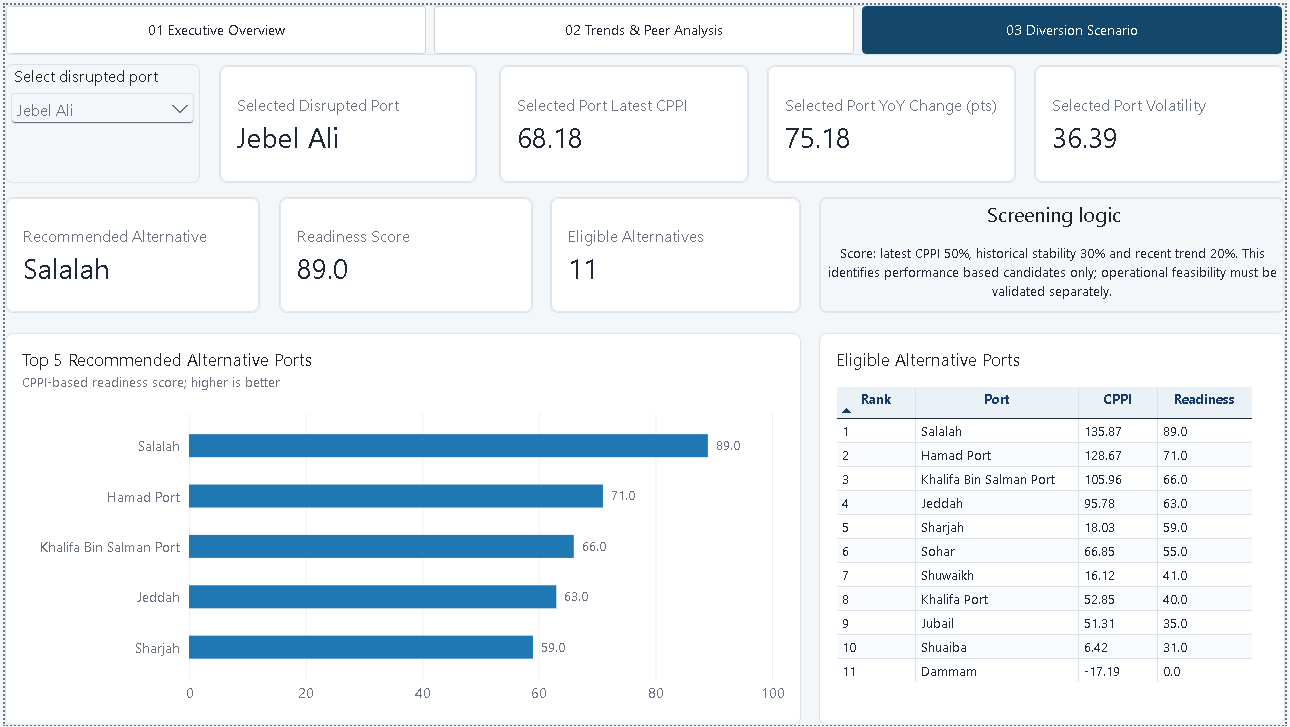

The dashboard page shown, as its layout file describes it:
{"tool":"powerbi","page":{"name":"03 Diversion Scenario","canvas":[1280,720],"ordinal":4},"visuals":[{"type":"slicer","title":"Select disrupted port.","fields":{"Values":["Disrupted Port Selector.Port"]},"box":[0,59.2,194.9,118.4],"z":0},{"type":"cardVisual","fields":{"Data":["Calculations.Selected Disrupted Port"]},"box":[214.3,60.2,258.2,117.3],"z":1000},{"type":"cardVisual","fields":{"Data":["Calculations.Selected Port Latest CPPI"]},"box":[493.9,60.2,250,117.3],"z":2000},{"type":"cardVisual","fields":{"Data":["Calculations.Selected Port YoY Change"]},"box":[762.2,60.2,249,117.3],"z":3000},{"type":"cardVisual","fields":{"Data":["Calculations.Selected Port Volatility"]},"box":[1028.6,60.2,251,117.3],"z":4000},{"type":"tableEx","title":"Eligible Alternative Ports","fields":{"Values":["Calculations.Alternative Rank","dim_Port.Port","Calculations.Latest CPPI","Calculations.CPPI Readiness Score"]},"box":[814.3,327.6,465.3,392.9],"z":5000},{"type":"cardVisual","fields":{"Data":["Calculations.Top CPPI-Screened Alternative"]},"box":[0,191.8,255.1,116.3],"z":6000},{"type":"cardVisual","fields":{"Data":["Calculations.Top Alternative Readiness Score"]},"box":[274.5,191.8,253.1,116.3],"z":7000},{"type":"cardVisual","fields":{"Data":["Calculations.Eligible Alternatives"]},"box":[544.9,191.8,251,116.3],"z":8000},{"type":"clusteredBarChart","title":"Top 5 Recommended Alternative Ports","fields":{"Category":["dim_Port.Port"],"Y":["Calculations.CPPI Readiness Score"]},"box":[0,327.6,795.9,392.9],"z":9000},{"type":"textbox","title":"Screening logic","box":[814.3,191.8,465.3,116.3],"z":10000},{"type":"pageNavigator","box":[0,0,1279.6,50],"z":11000}]}

Visuals, with their boxes in screenshot pixels (x1, y1, x2, y2), scaled from the page's 1280x720 canvas onto the 1290x727 screenshot:
"Select disrupted port." slicer: left=0, top=60, right=196, bottom=179
cardVisual - Calculations.Selected Disrupted Port: left=216, top=61, right=476, bottom=179
cardVisual - Calculations.Selected Port Latest CPPI: left=498, top=61, right=750, bottom=179
cardVisual - Calculations.Selected Port YoY Change: left=768, top=61, right=1019, bottom=179
cardVisual - Calculations.Selected Port Volatility: left=1037, top=61, right=1289, bottom=179
"Eligible Alternative Ports" tableEx: left=821, top=331, right=1289, bottom=726
cardVisual - Calculations.Top CPPI-Screened Alternative: left=0, top=194, right=257, bottom=311
cardVisual - Calculations.Top Alternative Readiness Score: left=277, top=194, right=532, bottom=311
cardVisual - Calculations.Eligible Alternatives: left=549, top=194, right=802, bottom=311
"Top 5 Recommended Alternative Ports" clusteredBarChart: left=0, top=331, right=802, bottom=726
"Screening logic" textbox: left=821, top=194, right=1289, bottom=311
pageNavigator: left=0, top=0, right=1289, bottom=50
